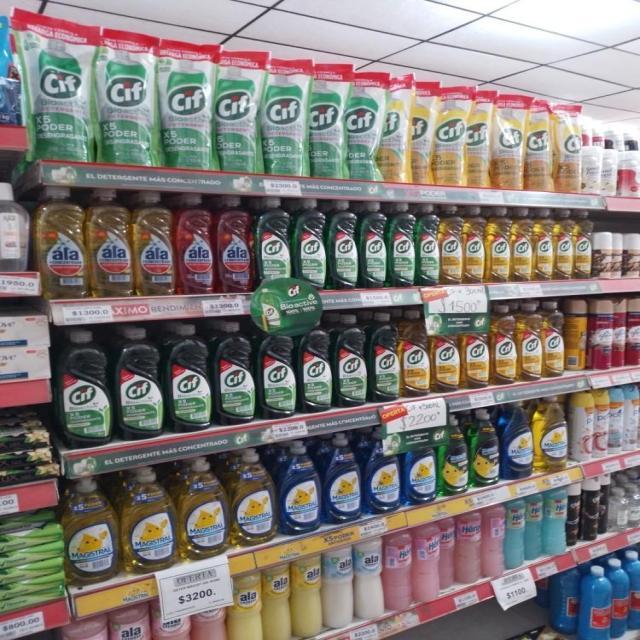ala_conc_amarillo: (34, 185, 86, 300), (88, 188, 132, 298), (134, 189, 174, 297)
ala_conc_rojo: (176, 192, 215, 296), (216, 194, 253, 294)
ala_crem_amarillo: (292, 553, 322, 639), (229, 570, 262, 640), (262, 562, 290, 640)
ala_crem_blanco: (323, 544, 354, 628), (355, 536, 383, 620)
ala_crem_rosado: (384, 530, 411, 612), (413, 523, 439, 603), (154, 596, 192, 640), (111, 603, 152, 640), (439, 516, 455, 591)
cif_conc_bot_amarilla: (400, 309, 430, 397), (431, 308, 460, 394), (462, 307, 489, 390), (491, 303, 516, 386), (518, 302, 542, 382), (486, 206, 510, 284), (440, 204, 462, 285), (463, 205, 485, 284), (511, 206, 533, 282), (543, 301, 564, 378), (533, 208, 553, 282), (554, 208, 573, 281), (574, 210, 592, 280)
cif_conc_botella_verde: (57, 328, 111, 449), (115, 326, 164, 440), (166, 323, 211, 433), (213, 320, 255, 426), (258, 319, 296, 420), (256, 196, 292, 294), (298, 316, 332, 414), (293, 197, 327, 291), (334, 314, 367, 408), (369, 312, 399, 404), (328, 199, 358, 290), (360, 200, 388, 290), (388, 202, 416, 288), (416, 202, 439, 286)
cif_conc_sachet_amarillo: (380, 74, 410, 183), (492, 90, 524, 190), (434, 85, 465, 186), (526, 96, 554, 192), (465, 88, 491, 188), (409, 80, 434, 184), (555, 100, 581, 194)
cif_conc_sachet_verde: (28, 15, 94, 163), (96, 30, 159, 165), (160, 39, 213, 170), (215, 50, 259, 173), (261, 58, 306, 176), (308, 62, 345, 179), (346, 69, 379, 181), (0, 8, 22, 148)
heroe: (456, 510, 481, 586), (544, 486, 566, 556), (505, 498, 524, 570), (526, 491, 542, 562), (568, 482, 581, 548)
magistral_con_amarillo: (121, 466, 176, 573), (65, 476, 118, 584), (179, 456, 228, 560), (231, 447, 275, 546), (534, 395, 568, 472)
magistral_con_azul: (278, 440, 321, 536), (323, 433, 361, 524), (364, 430, 401, 516), (501, 401, 532, 479), (403, 435, 437, 506)
